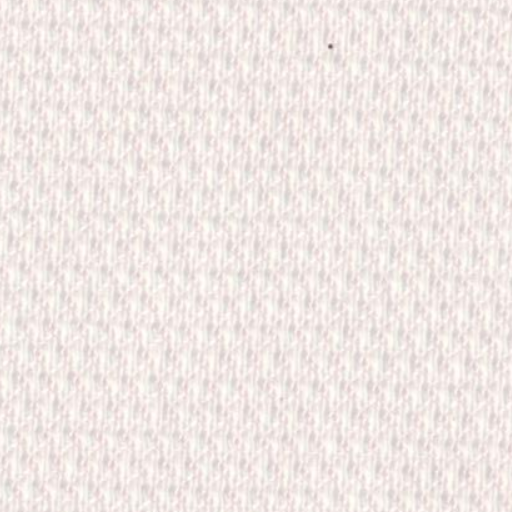WuZi: (312, 30, 345, 64)
